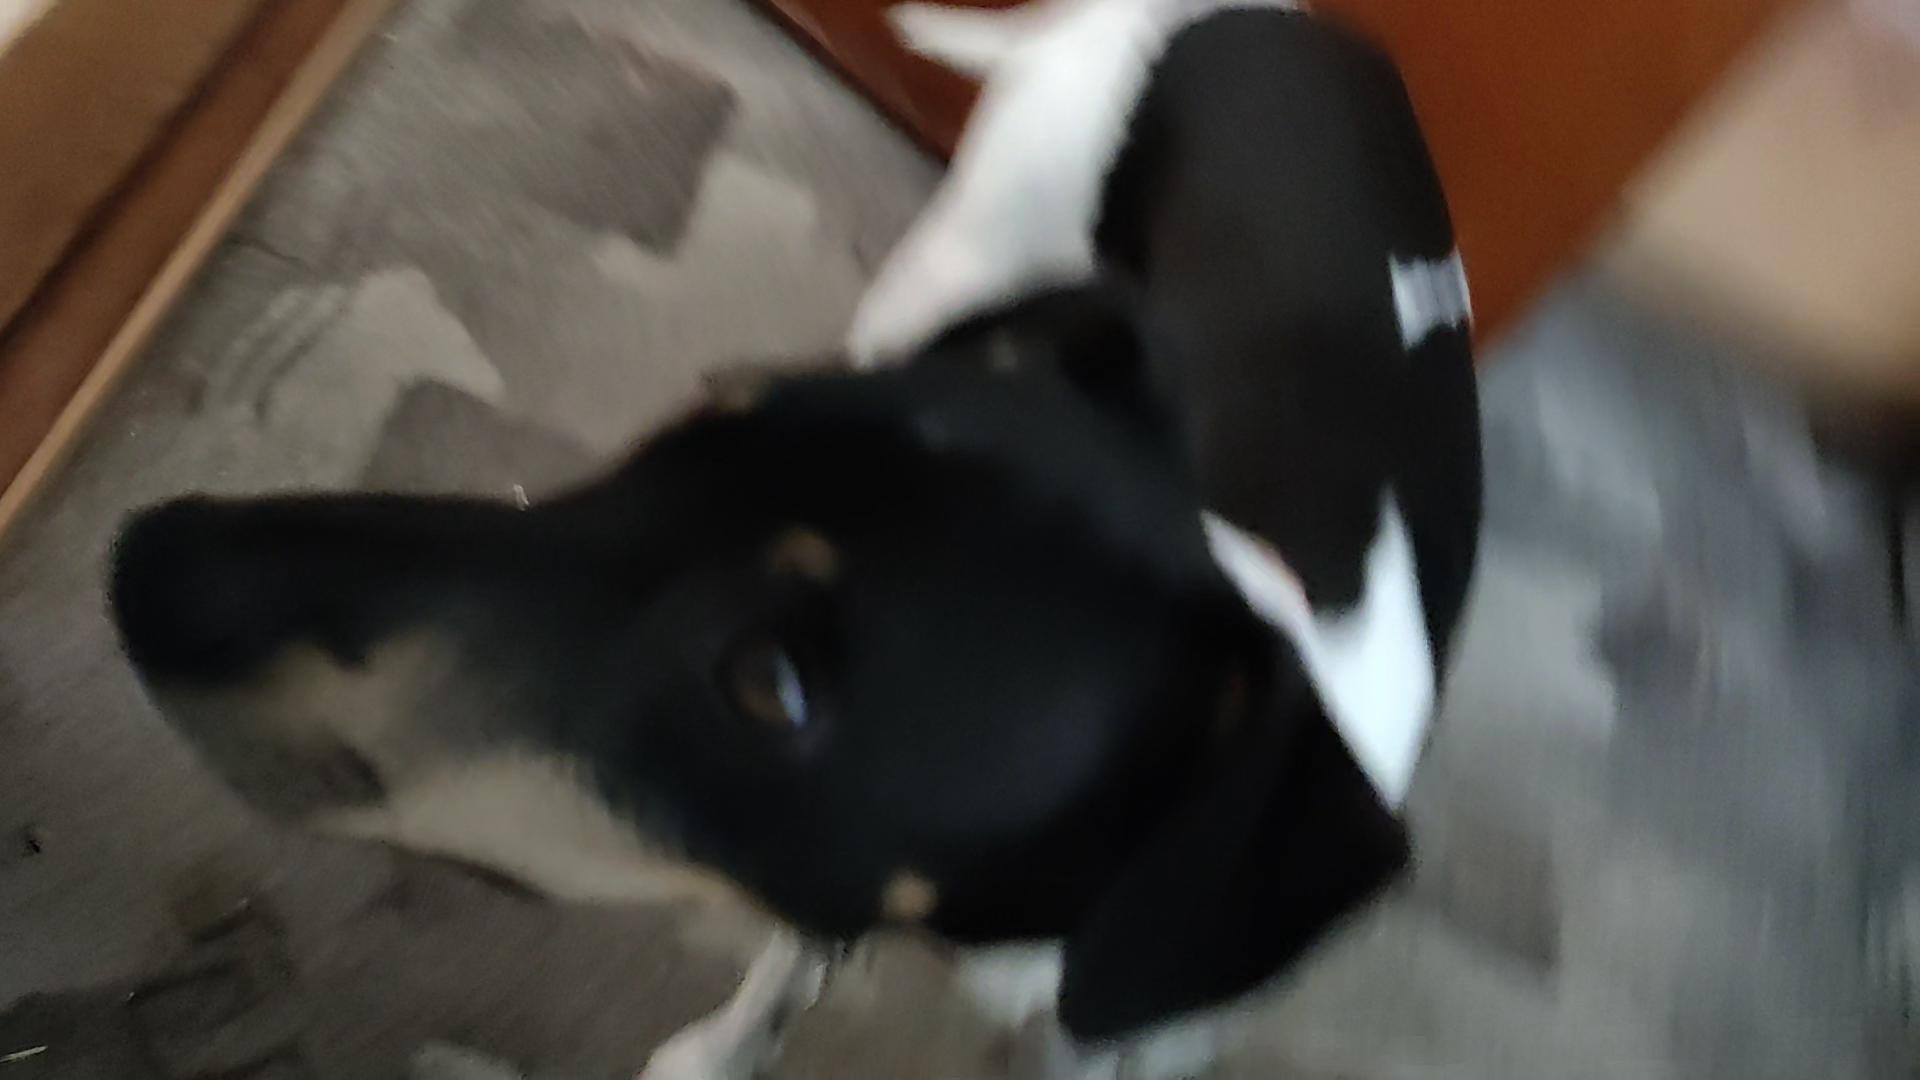Dog: (87, 0, 1487, 1079)
